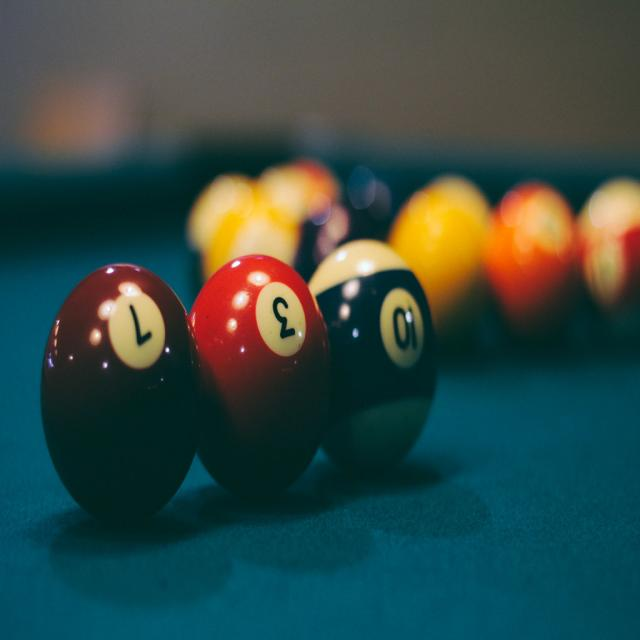Ball: (40, 151, 640, 520)
Billiard table: (0, 116, 639, 639)
